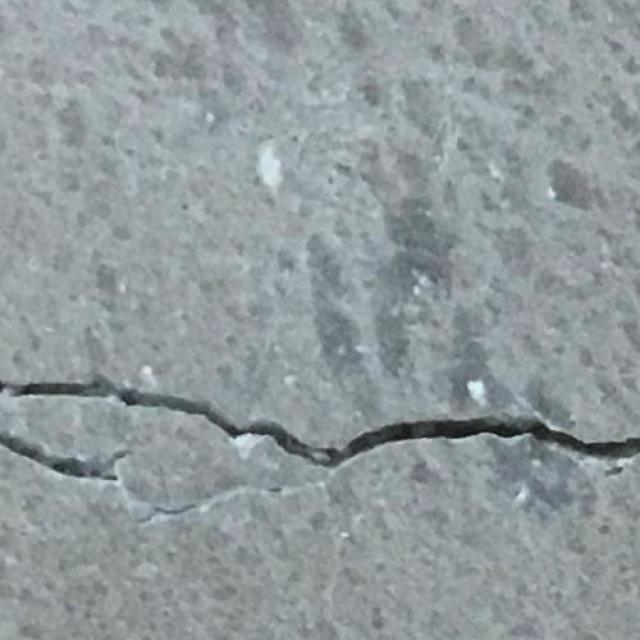horizontal crack: (0, 361, 640, 543)
